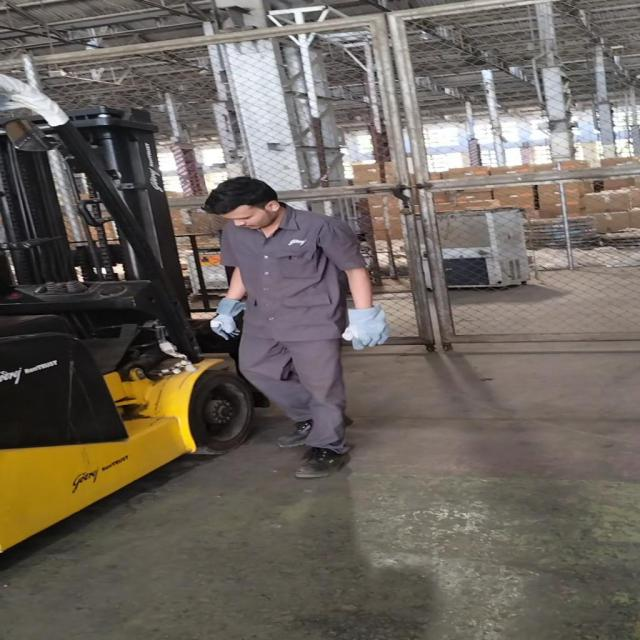Gloves-Detection: (346, 305, 388, 354), (208, 299, 247, 337)
